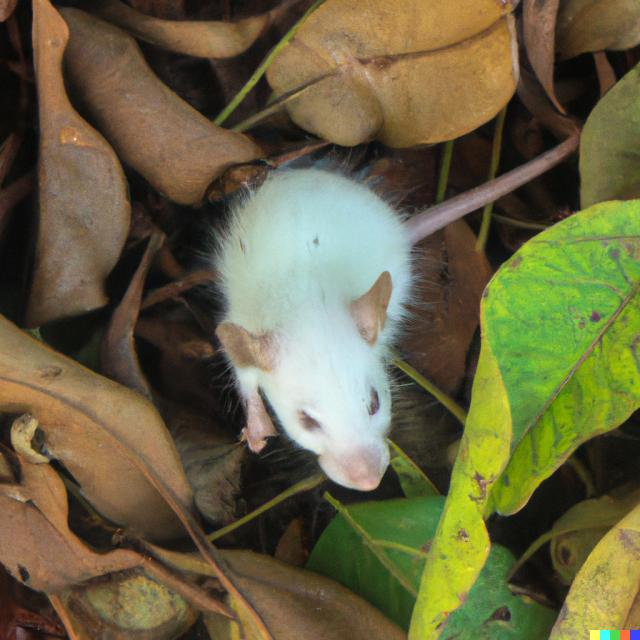rodents: (194, 158, 450, 518)
